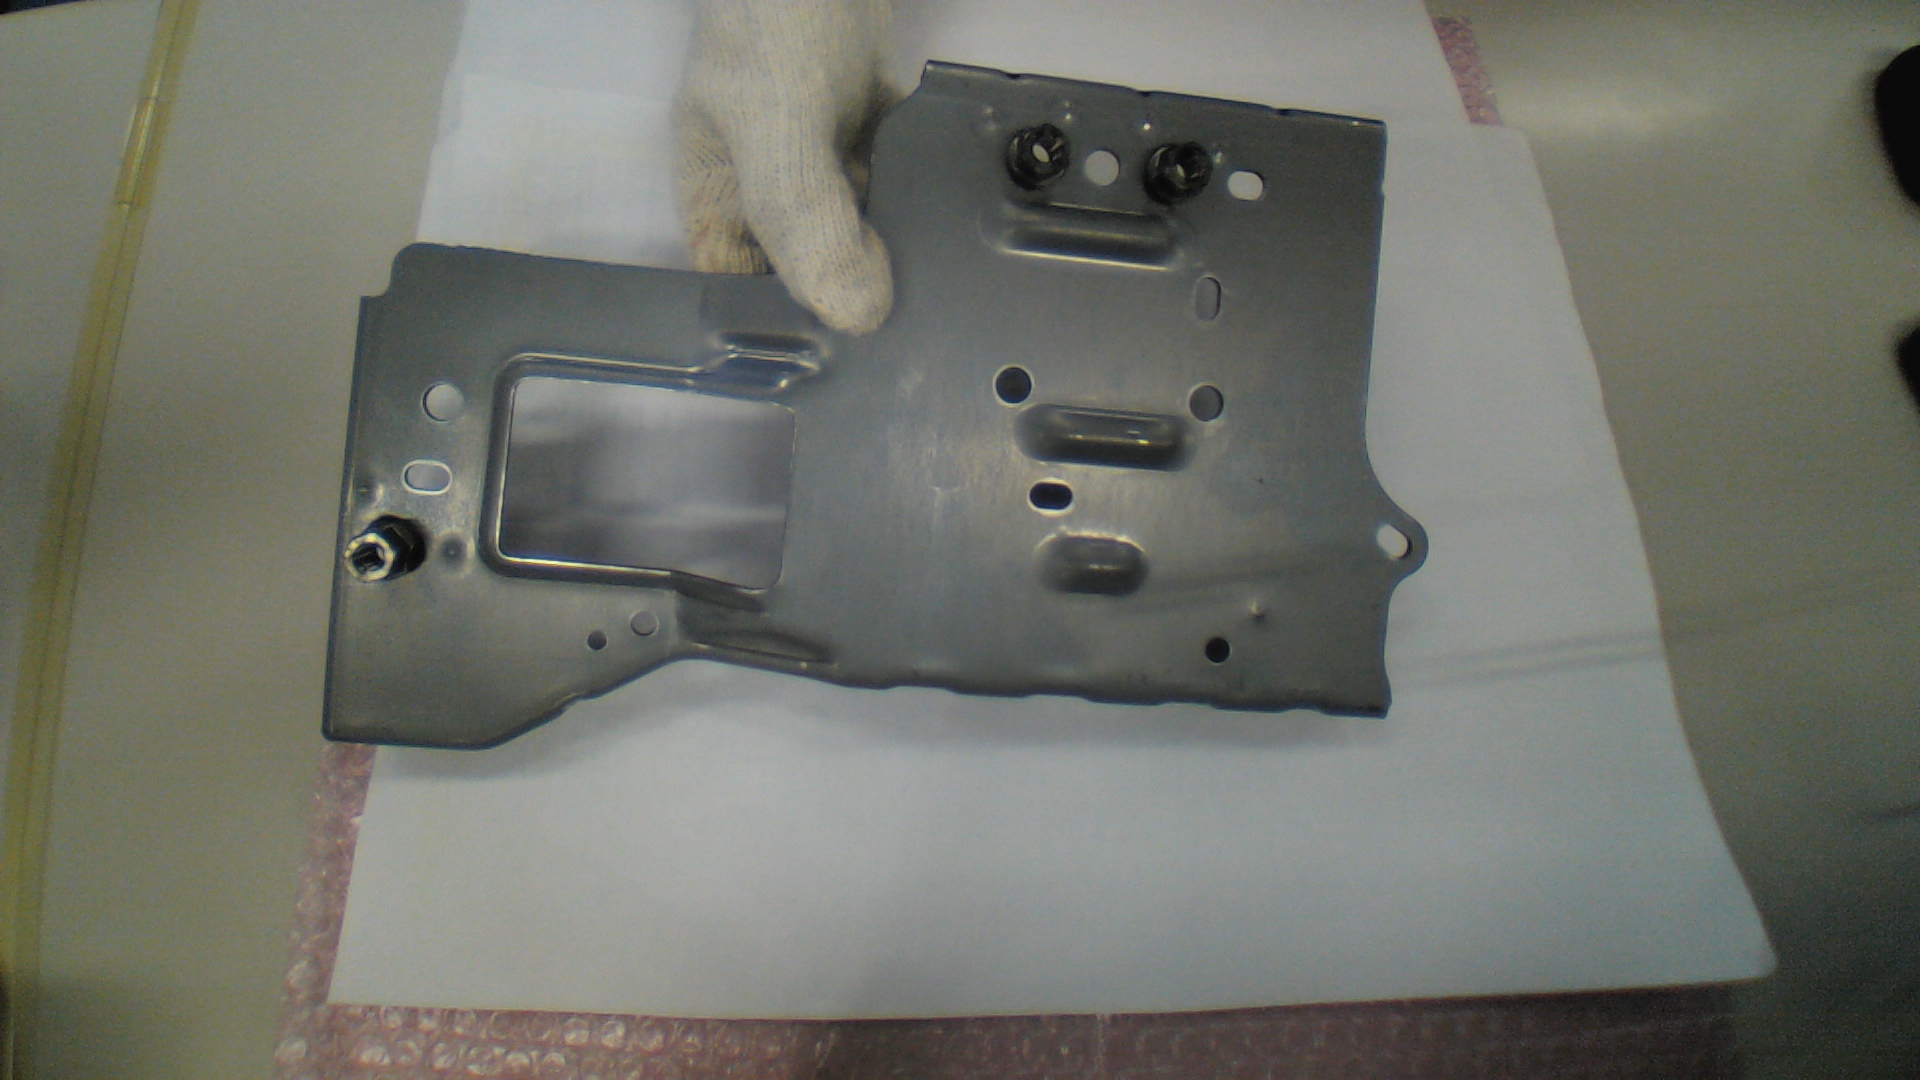dog: (343, 514, 423, 585), (1145, 138, 1213, 204), (1007, 125, 1071, 191)
